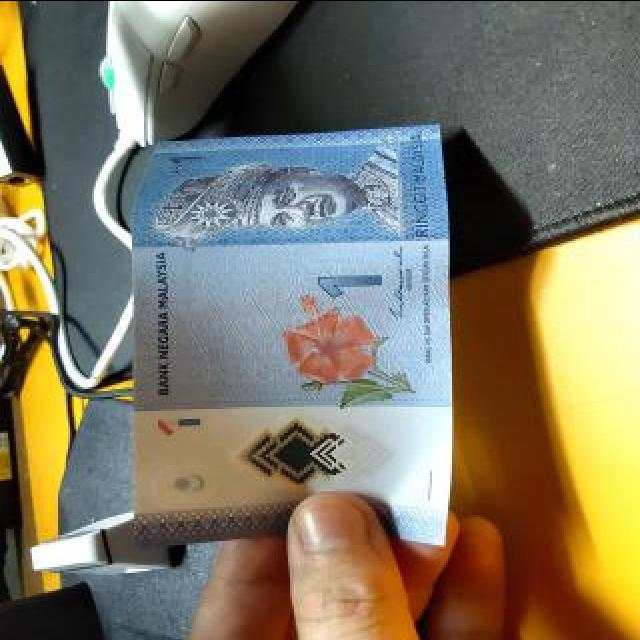1 Ringgit: (130, 105, 453, 544)
